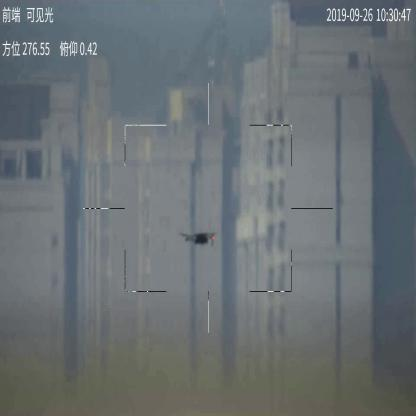uav: (177, 231, 221, 249)
